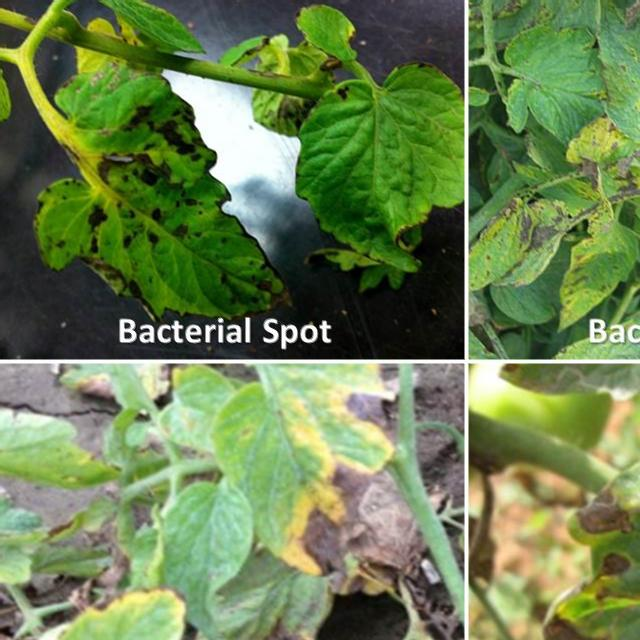Tomato leaf bacterial spot: (29, 374, 410, 640), (29, 72, 286, 340), (267, 70, 462, 301), (583, 0, 640, 172), (626, 166, 640, 354)
